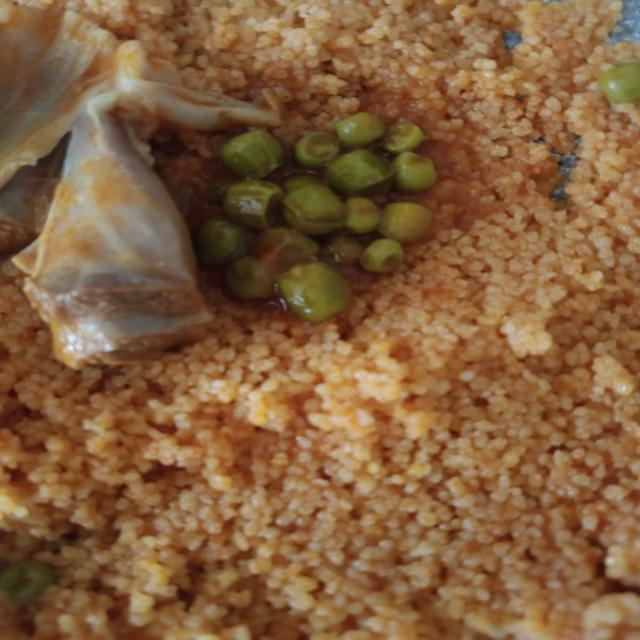Couscous: (0, 6, 638, 640)
